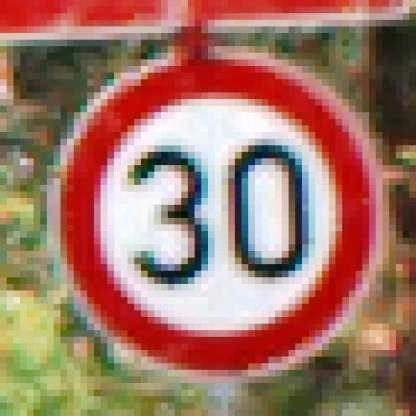Speed Limit -30-: (47, 50, 386, 382)
